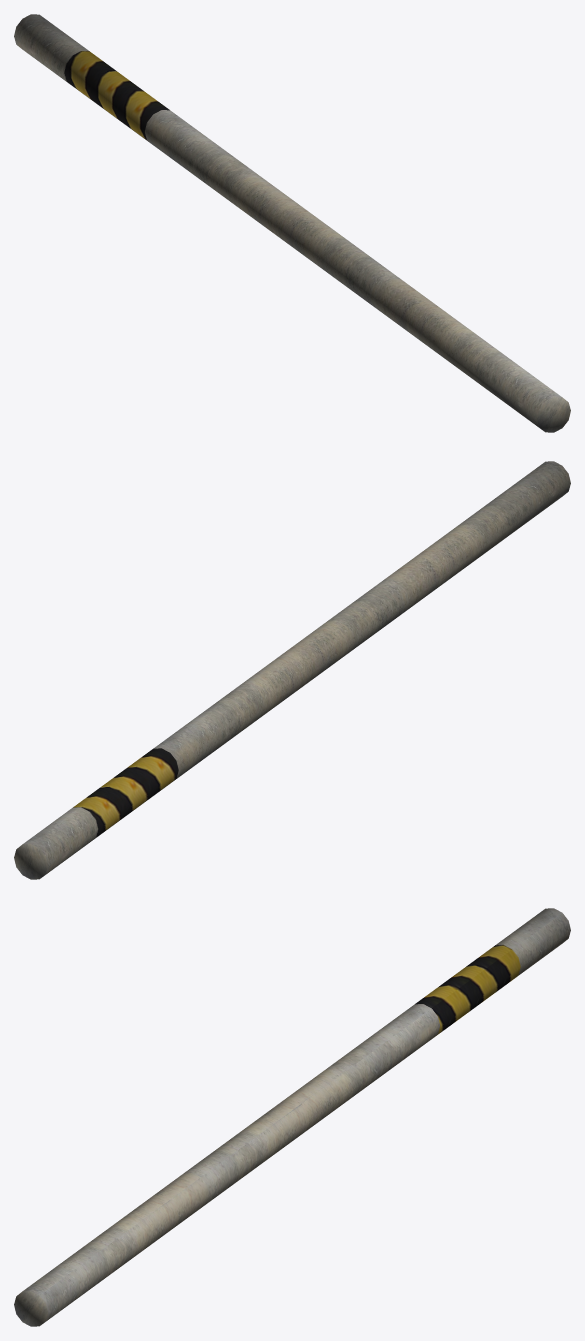
Rendered from RTF3601220720_0428L_01_normalization.obj.
The picture shows the model from 3 angles, top to bottom: view 1: azimuth 30°, elevation 25°; view 2: azimuth 150°, elevation 25°; view 3: azimuth 330°, elevation 25°; orthographic projection.
Parts seen in each view (by area): view 1: RTF3601220720_0428S_01; view 2: RTF3601220720_0428S_01; view 3: RTF3601220720_0428S_01.
Boxes of the visible parts, x1,y1,x2,y2 form: RTF3601220720_0428S_01: (14, 14, 570, 432); RTF3601220720_0428S_01: (14, 461, 570, 879); RTF3601220720_0428S_01: (14, 908, 570, 1326).
Bounding box in the file's own units: 0.0375 × 0.0375 × 0.9986.
1 material, 1 textured.
